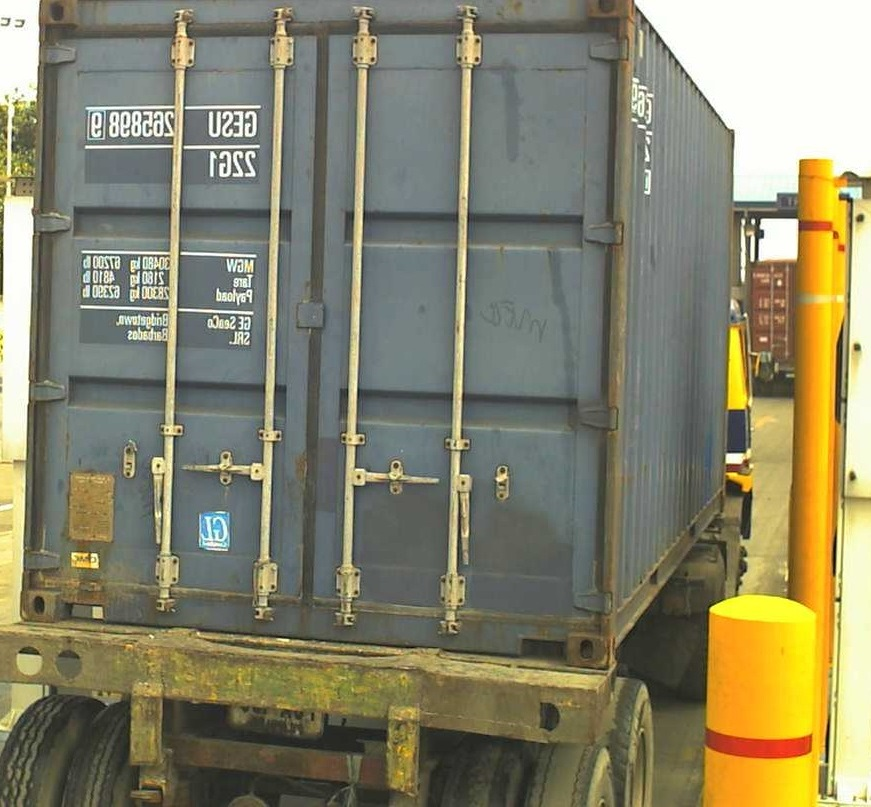container_door: (14, 1, 628, 666)
